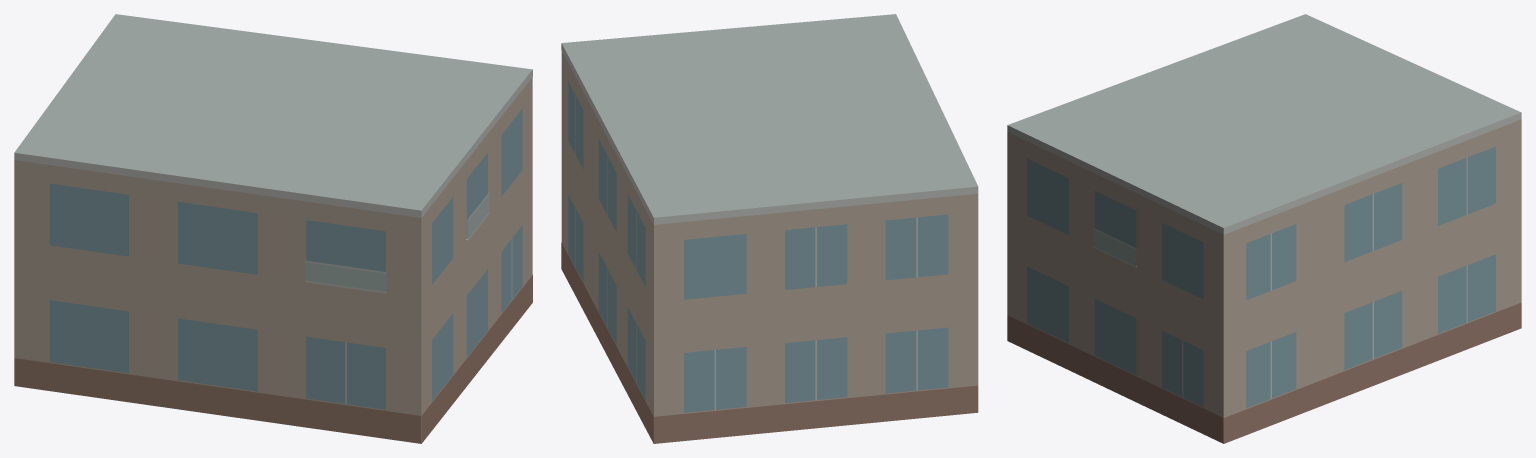
The model's file is survey-upis-32932627.glb.
3 renders of one model, left to right at view 1: azimuth 30°, elevation 25°; view 2: azimuth 150°, elevation 25°; view 3: azimuth 270°, elevation 25°, orthographic. The views are drawn at different scales.
Parts seen in each view (by area): view 1: survey-upis-32932627.tmp; view 2: survey-upis-32932627.tmp; view 3: survey-upis-32932627.tmp.
Part boxes in pixels (x1,y1,x2,y2): survey-upis-32932627.tmp: (14, 14, 532, 443); survey-upis-32932627.tmp: (561, 14, 978, 443); survey-upis-32932627.tmp: (1007, 14, 1521, 443).
Size of the model in its own units: 16.61 by 7.8 by 16.86.
